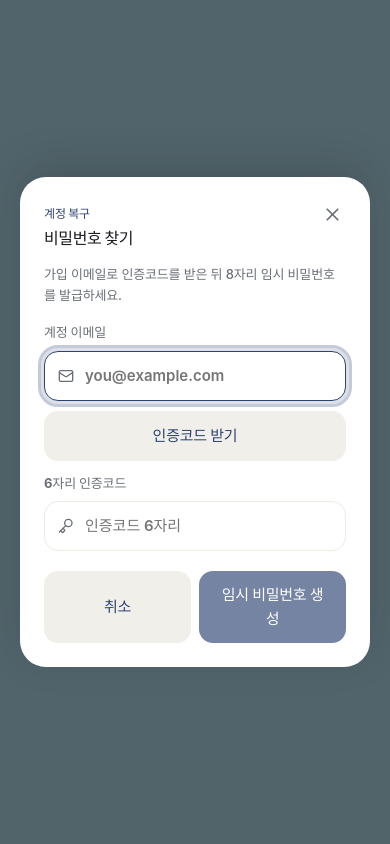
Test: ForgotPasswordModal › 인증코드 전송 오류를 입력값과 함께 유지한다
Type "traveler@example.com" into the field labelled "계정 이메일" at (195, 376), box top-left (44, 351), bottom-right (346, 401)
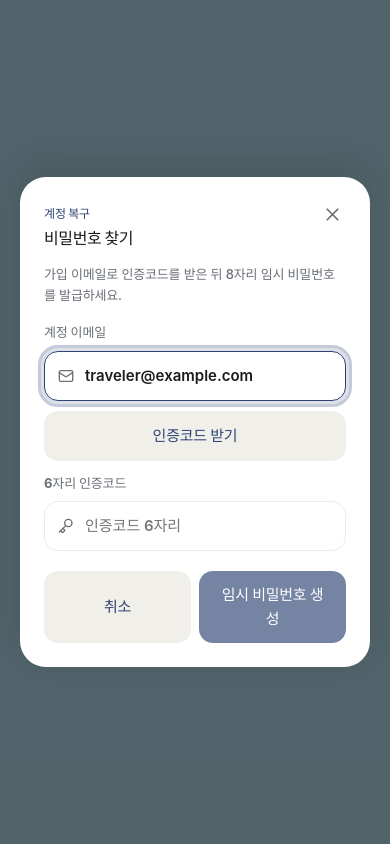
Click the button "인증코드 받기" at (195, 436), box top-left (44, 411), bottom-right (346, 461)
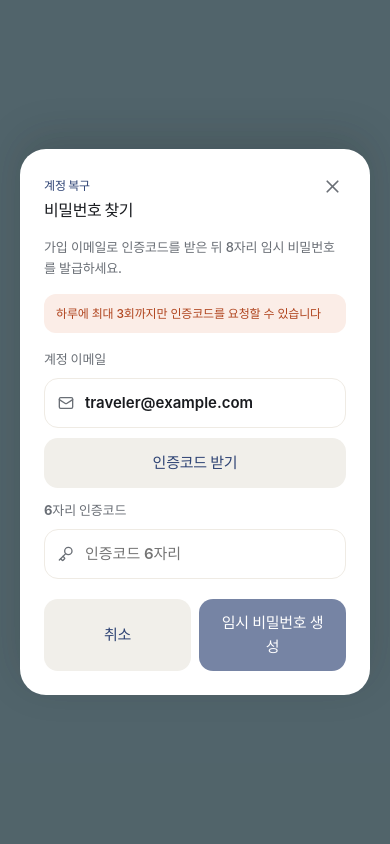
Expected: the button "인증코드 받기" is enabled, top-left (44, 438), bottom-right (346, 488)
Expected: the message reads "하루에 최대 3회까지만 인증코드를 요청할 수 있습니다", top-left (56, 306), bottom-right (321, 321)
